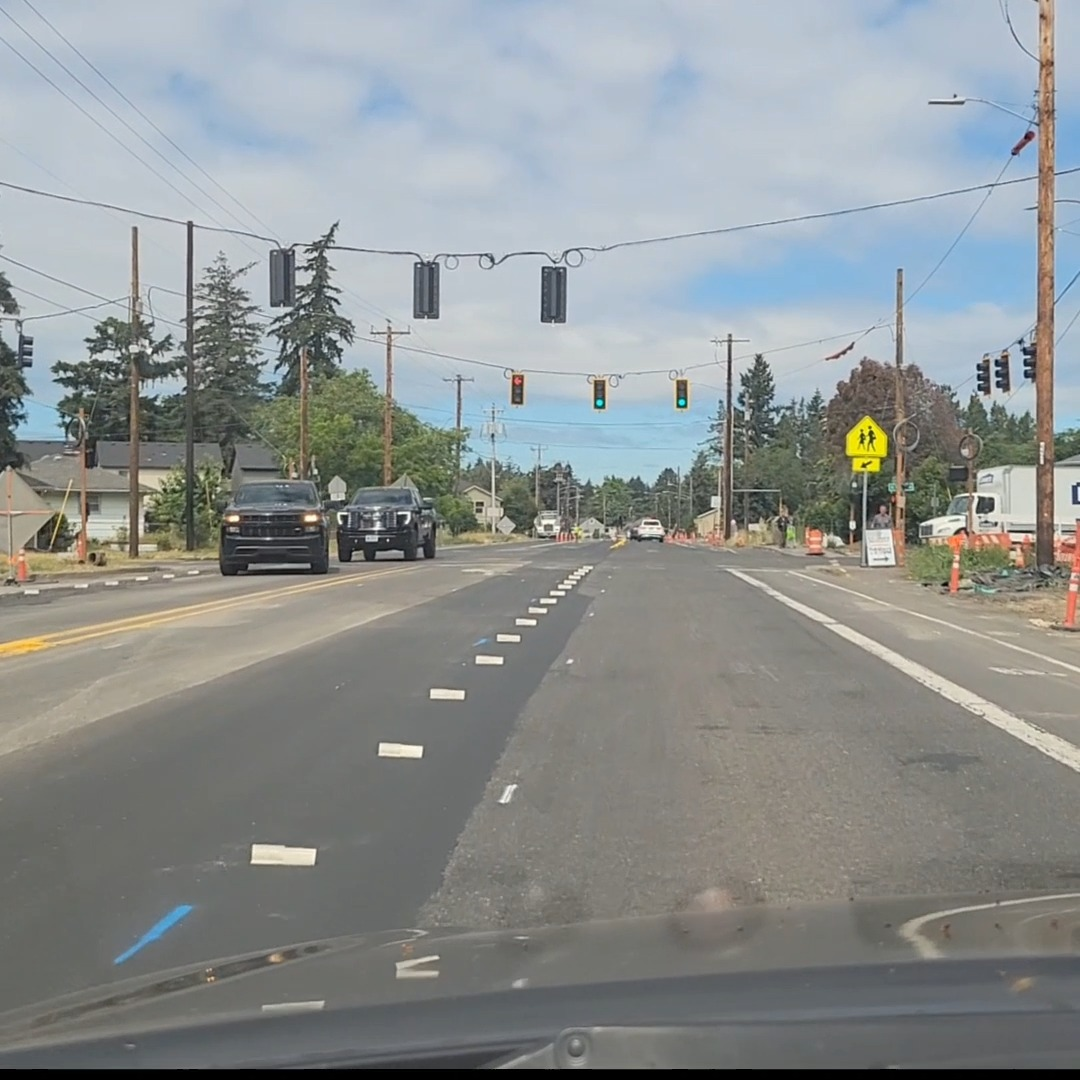car: (217, 480, 334, 576), (333, 486, 438, 562), (626, 517, 665, 541)
crosswalk-sign: (844, 414, 888, 465)
delineator: (1059, 520, 1079, 627), (947, 533, 964, 593), (72, 525, 88, 559), (14, 548, 29, 581), (1022, 533, 1033, 564)
